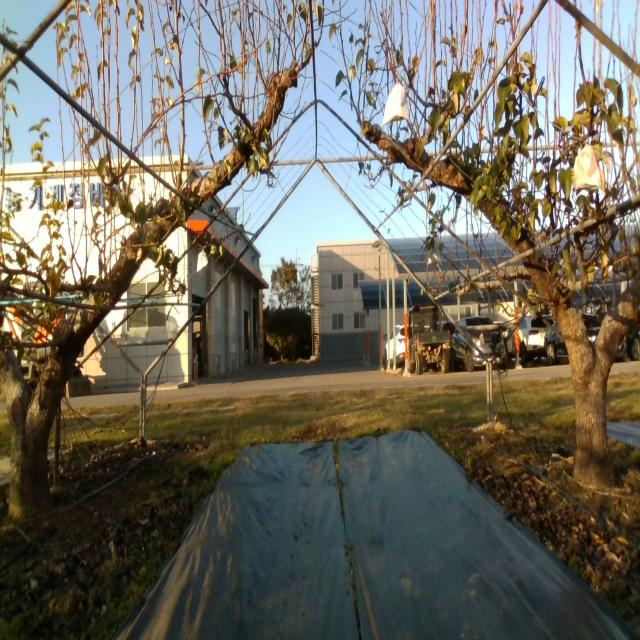pearbags: (573, 143, 602, 197), (382, 72, 410, 127), (427, 244, 442, 266), (196, 249, 208, 273)
